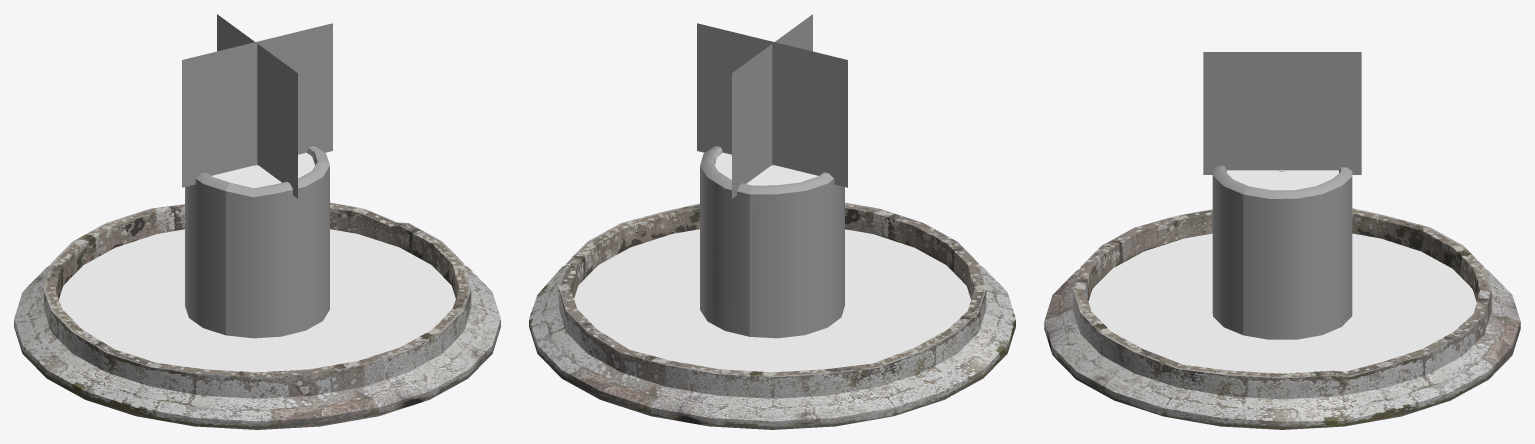
The model's file is Water_Fountain.fbx.
The picture shows the model from 3 angles, left to right: view 1: azimuth 30°, elevation 25°; view 2: azimuth 150°, elevation 25°; view 3: azimuth 270°, elevation 25°; orthographic projection. The views are drawn at different scales.
Visible parts, largest first — view 1: Base, Water_Bottom, Fountain_Edge_Water_B, Fountain_Water_Jet_A, Fountain_Edge_Water_A, Fountain_Water_Jet_B, Water_Top; view 2: Base, Water_Bottom, Fountain_Water_Jet_A, Fountain_Edge_Water_A, Fountain_Edge_Water_C, Fountain_Water_Jet_B, Water_Top; view 3: Base, Water_Bottom, Fountain_Water_Jet_B, Fountain_Edge_Water_C, Fountain_Edge_Water_B, Water_Top.
Part boxes in pixels (x1=…): Base: x1=14, y1=202, x2=500, y2=429; Water_Bottom: x1=59, y1=229, x2=455, y2=372; Fountain_Edge_Water_B: x1=226, y1=161, x2=329, y2=338; Fountain_Water_Jet_A: x1=182, y1=23, x2=332, y2=187; Fountain_Edge_Water_A: x1=185, y1=172, x2=230, y2=335; Fountain_Water_Jet_B: x1=217, y1=14, x2=297, y2=198; Water_Top: x1=211, y1=152, x2=314, y2=188; Base: x1=529, y1=202, x2=1015, y2=429; Water_Bottom: x1=574, y1=229, x2=970, y2=372; Fountain_Water_Jet_A: x1=697, y1=23, x2=847, y2=187; Fountain_Edge_Water_A: x1=749, y1=172, x2=844, y2=338; Fountain_Edge_Water_C: x1=700, y1=146, x2=752, y2=336; Fountain_Water_Jet_B: x1=732, y1=14, x2=812, y2=198; Water_Top: x1=715, y1=152, x2=818, y2=185; Base: x1=1044, y1=208, x2=1520, y2=429; Water_Bottom: x1=1088, y1=233, x2=1476, y2=373; Fountain_Water_Jet_B: x1=1203, y1=52, x2=1361, y2=174; Fountain_Edge_Water_C: x1=1243, y1=167, x2=1352, y2=339; Fountain_Edge_Water_B: x1=1212, y1=165, x2=1249, y2=334; Water_Top: x1=1226, y1=170, x2=1338, y2=190.
Size of the model in its own units: 317 by 205 by 317.
